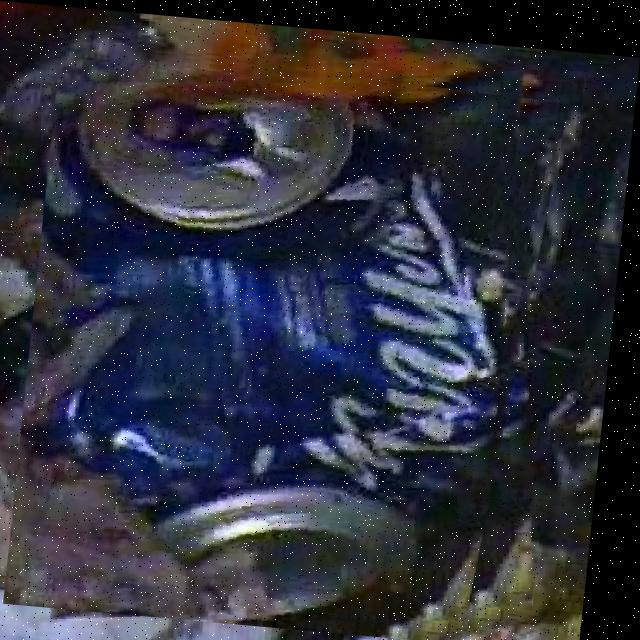can: (16, 38, 572, 637)
